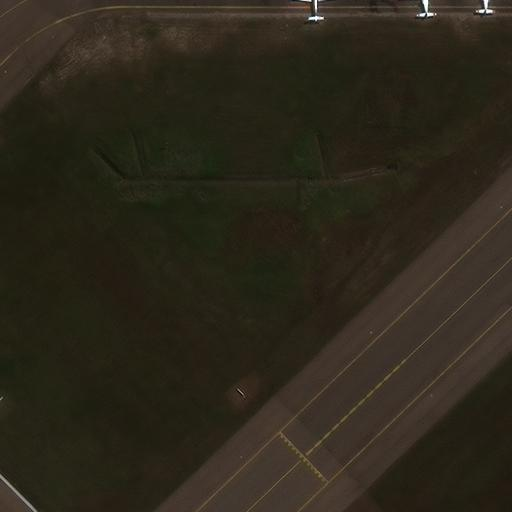Medium Civil Transport: (295, 0, 333, 22), (408, 0, 441, 18)
